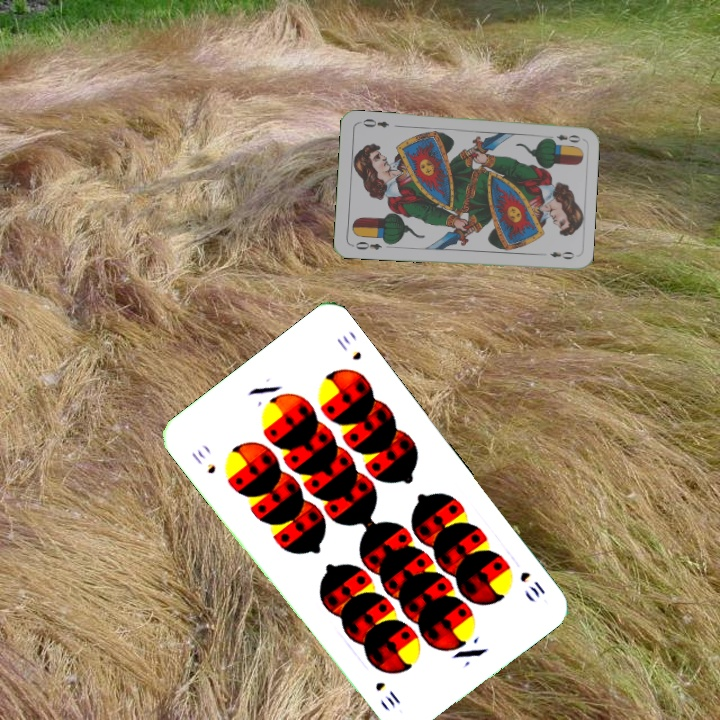EO: (543, 130, 583, 145), (348, 237, 384, 253)
S10: (515, 567, 548, 600), (187, 445, 219, 477)
